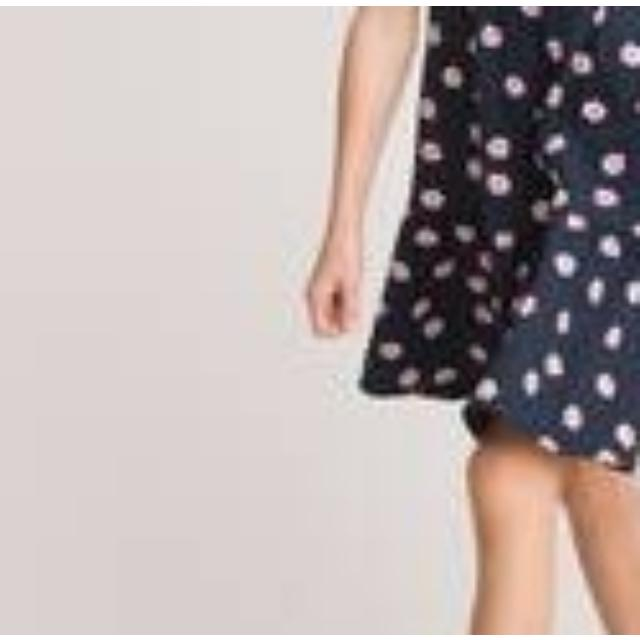cotton: (374, 5, 640, 435)
